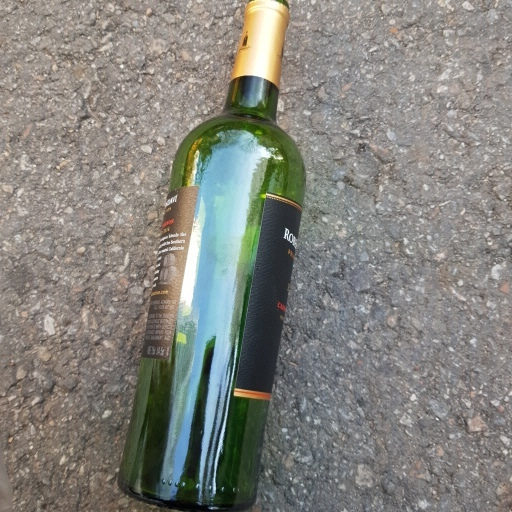Glass_2: (118, 1, 309, 512)
